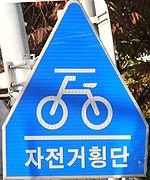Cycle Crossing: (8, 49, 140, 171)
